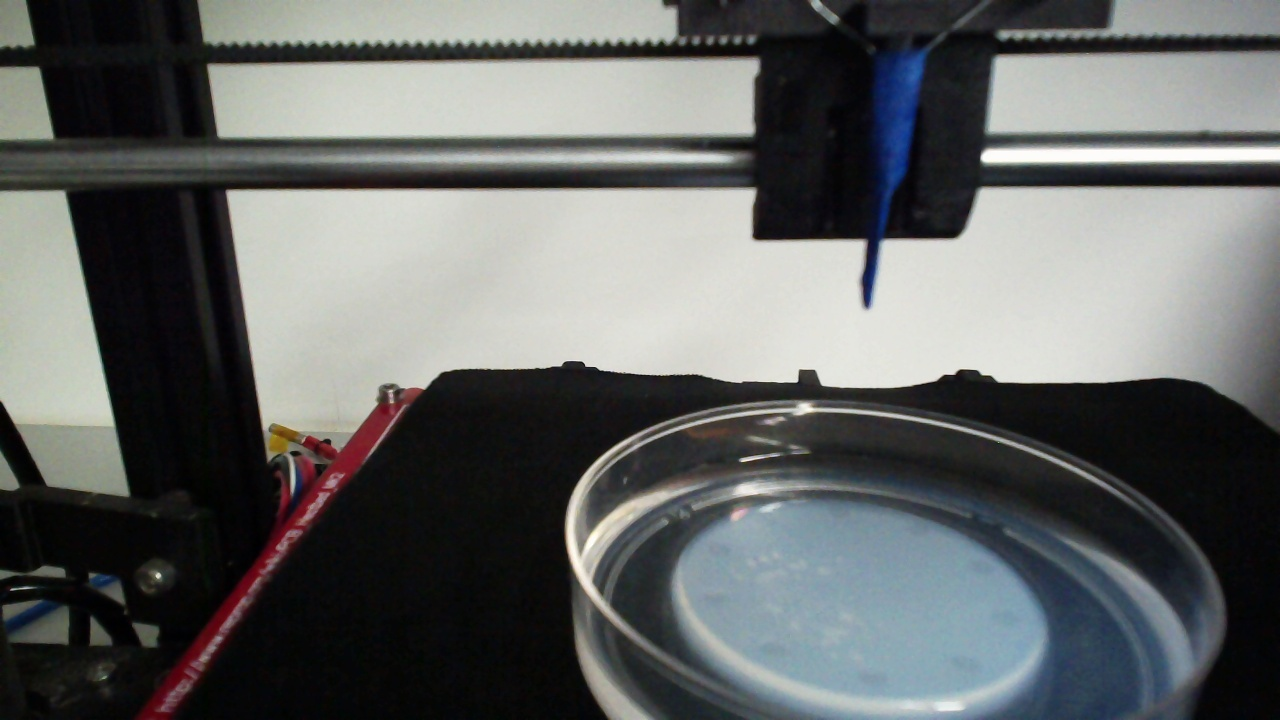groove: (989, 609, 1019, 629), (952, 654, 981, 672), (968, 559, 996, 577), (759, 642, 788, 658), (858, 670, 888, 685), (904, 521, 930, 537), (707, 542, 732, 558), (703, 592, 729, 607), (825, 505, 852, 519)
needle: (860, 53, 924, 307)
